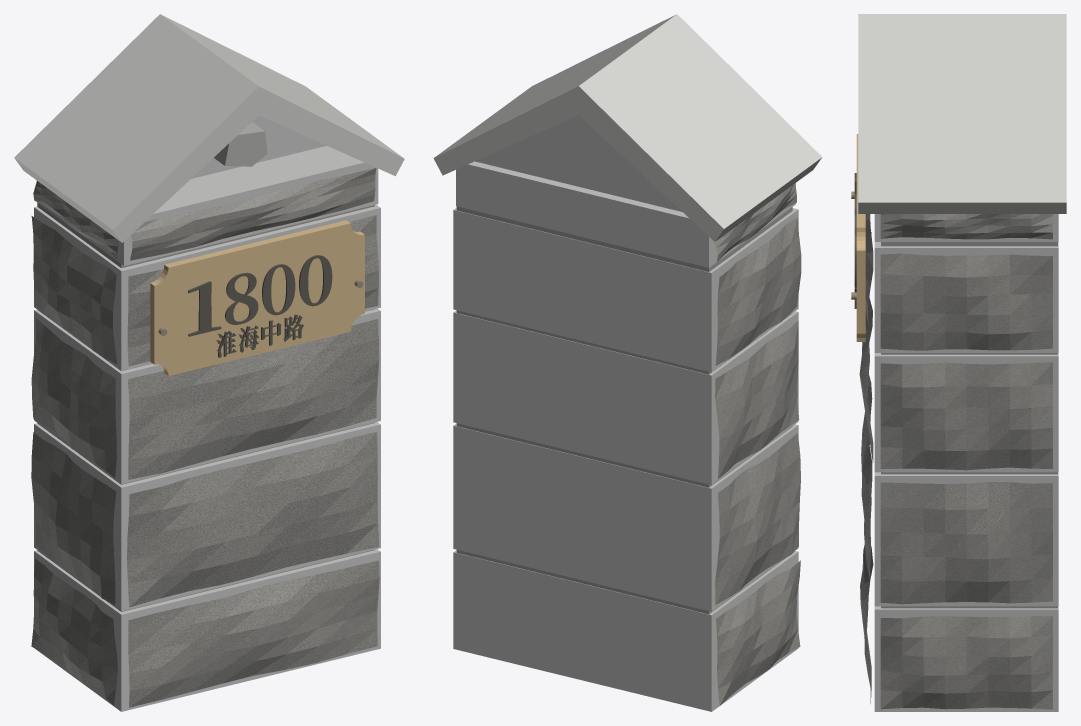
File: huaihai-1800-rusticated-gatepost-far.glb
3 renders of one model, left to right at view 1: azimuth 30°, elevation 25°; view 2: azimuth 150°, elevation 25°; view 3: azimuth 270°, elevation 25°, orthographic. The views are drawn at different scales.
Parts seen in each view (by area): view 1: 淮海中路1800号花岗石门柱与三角压顶; view 2: 淮海中路1800号花岗石门柱与三角压顶; view 3: 淮海中路1800号花岗石门柱与三角压顶.
Part boxes in pixels (x1,y1,x2,y2): 淮海中路1800号花岗石门柱与三角压顶: (14, 14, 404, 711); 淮海中路1800号花岗石门柱与三角压顶: (433, 14, 822, 711); 淮海中路1800号花岗石门柱与三角压顶: (851, 14, 1066, 711).
Size of the model in its own units: 0.884 by 1.74 by 0.536.
Materials: 8 (1 with a texture image).
